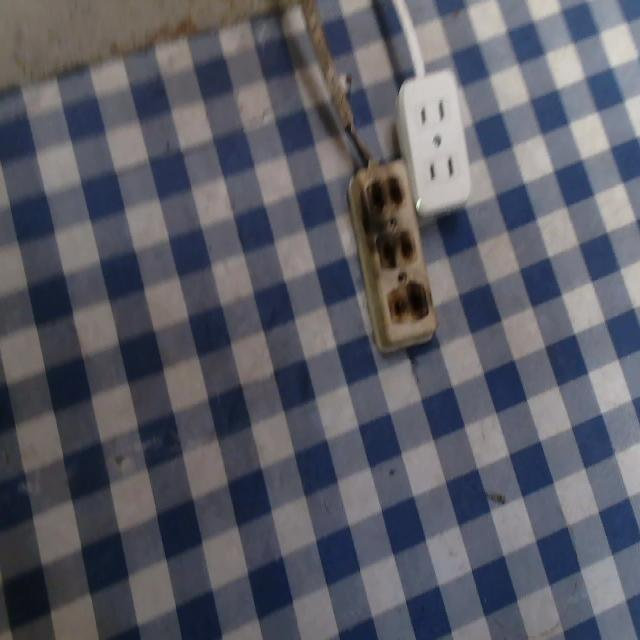-: (369, 223, 420, 273), (386, 280, 432, 325), (364, 169, 404, 212)
